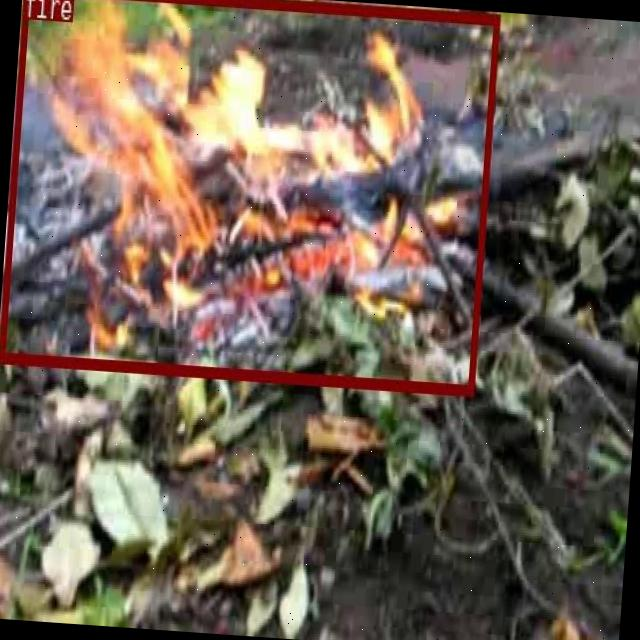fire: (0, 0, 498, 393)
